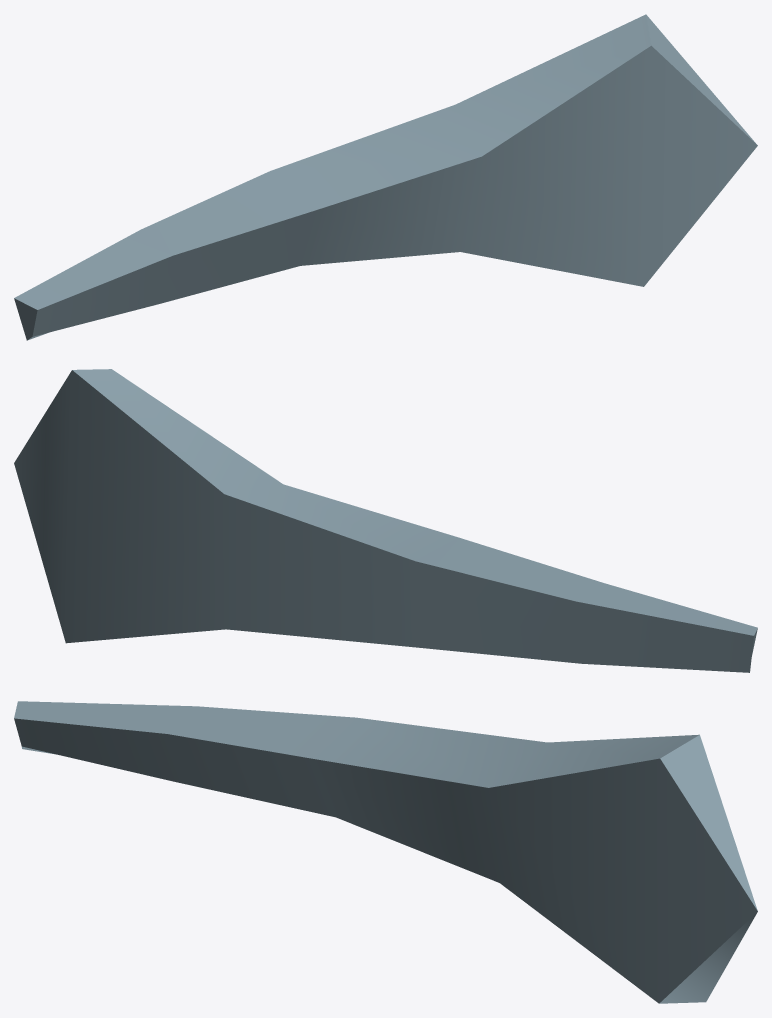
The model's file is ironPickaxeHead.glb.
The picture shows the model from 3 angles, top to bottom: view 1: azimuth 30°, elevation 25°; view 2: azimuth 150°, elevation 25°; view 3: azimuth 330°, elevation 25°; orthographic projection. The views are drawn at different scales.
Parts seen in each view (by area): view 1: Cube001; view 2: Cube001; view 3: Cube001.
Boxes of the visible parts, x1,y1,x2,y2 form: Cube001: (14,14,757,340); Cube001: (14,369,757,672); Cube001: (14,701,757,1003).
Bounding box in the file's own units: 0.3661 × 0.1259 × 0.045.
